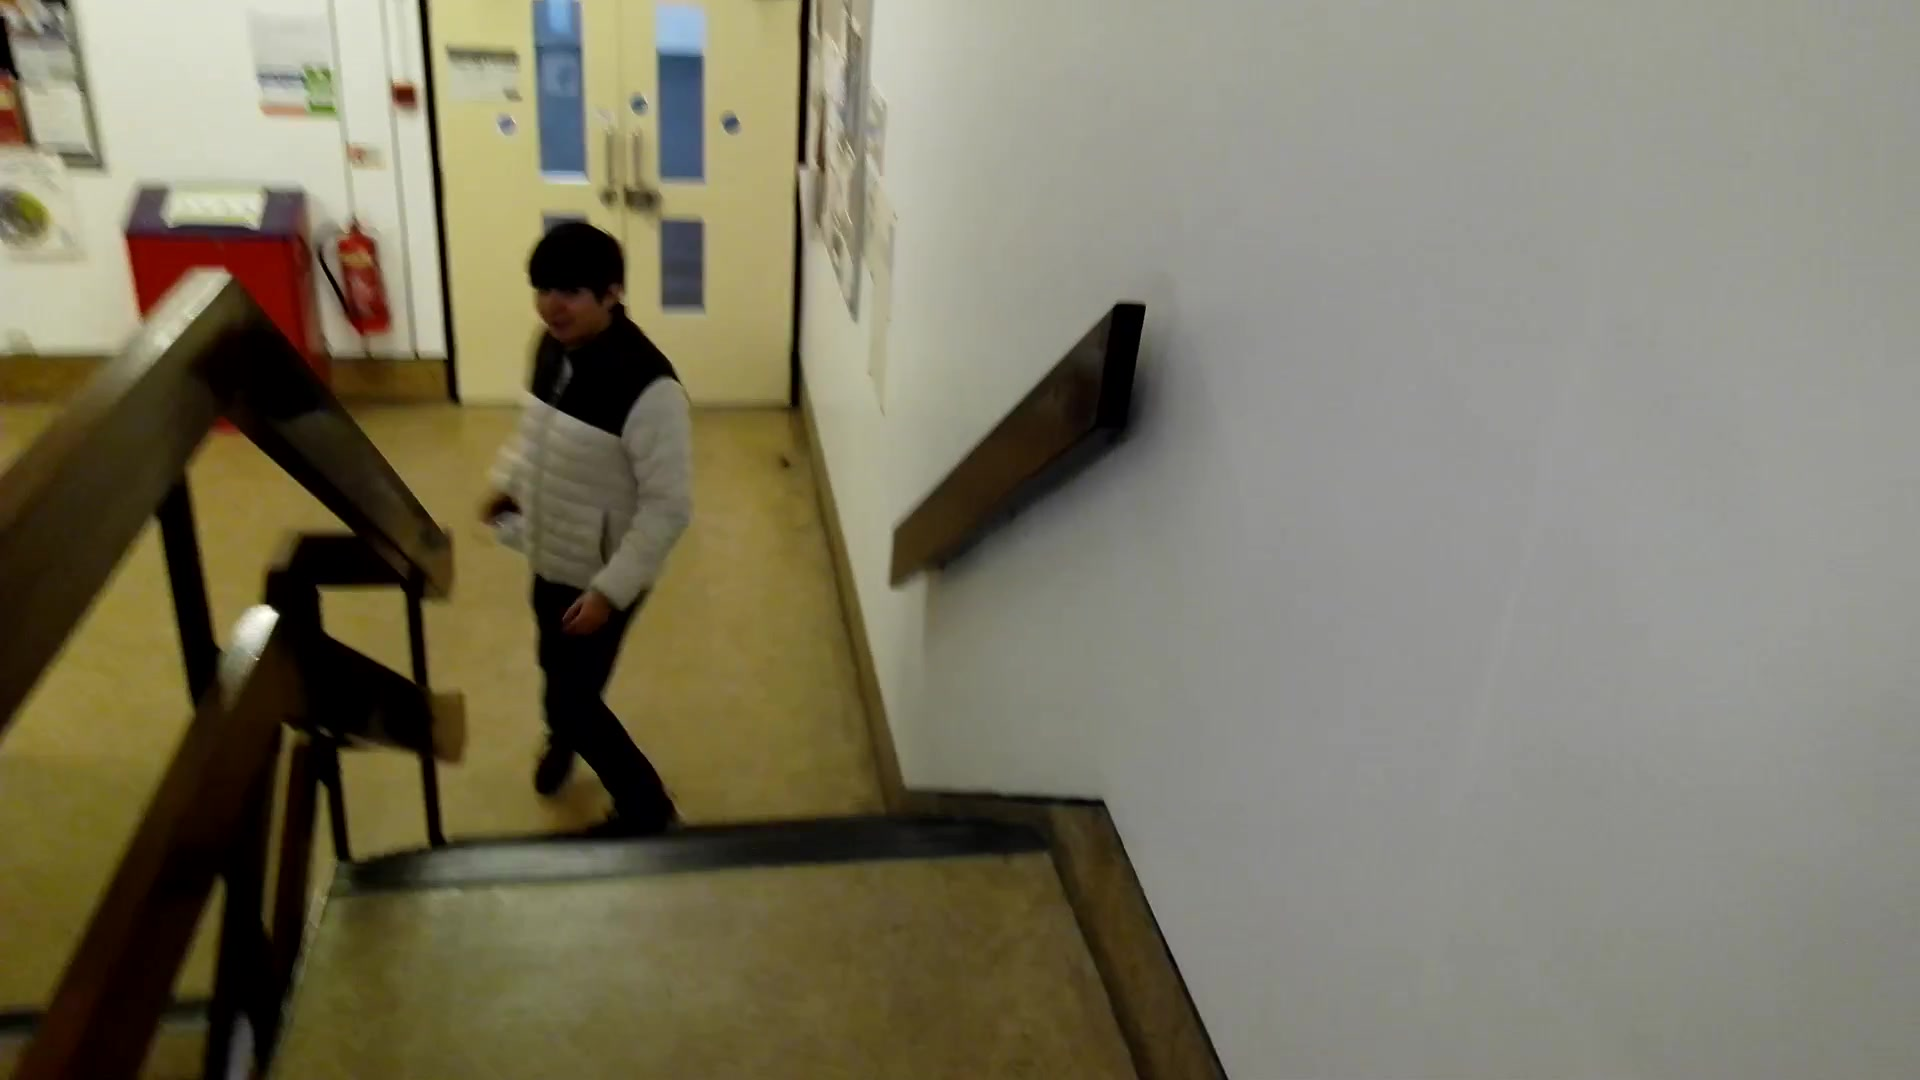Person: (494, 221, 701, 847)
